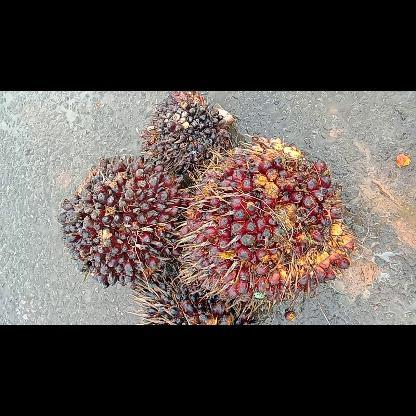Kurang masak: (57, 154, 188, 284)
TBS abnormal: (140, 92, 240, 176), (140, 276, 258, 324)
TBS masak: (182, 138, 352, 296)
